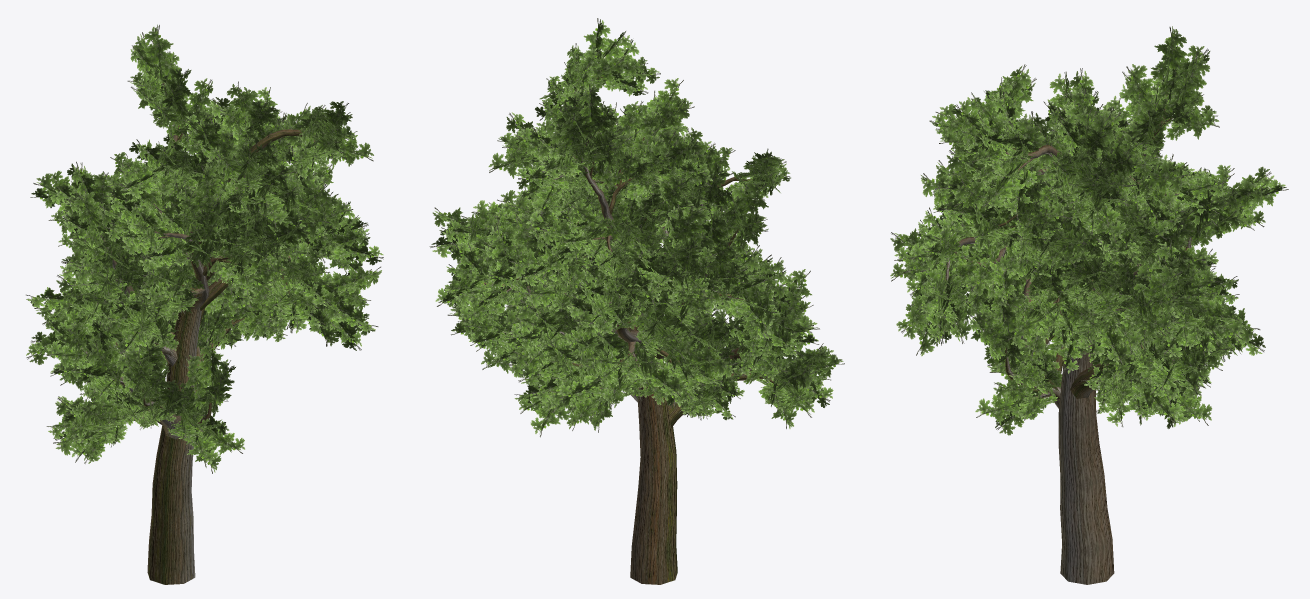
The model's file is eztree-white-oak-stand-c.glb.
3 renders of one model, left to right at view 1: azimuth 30°, elevation 25°; view 2: azimuth 150°, elevation 25°; view 3: azimuth 270°, elevation 25°, orthographic. The views are drawn at different scales.
Parts seen in each view (by area): view 1: eztree-white-oak-stand-c; view 2: eztree-white-oak-stand-c; view 3: eztree-white-oak-stand-c.
Part boxes in pixels (left/top/right/bottom): eztree-white-oak-stand-c: left=26, top=24, right=383, bottom=584; eztree-white-oak-stand-c: left=429, top=18, right=844, bottom=584; eztree-white-oak-stand-c: left=890, top=26, right=1288, bottom=584.
Bounding box in the file's own units: 50.15 × 68.87 × 46.31.
Materials: 2 (2 with a texture image).
